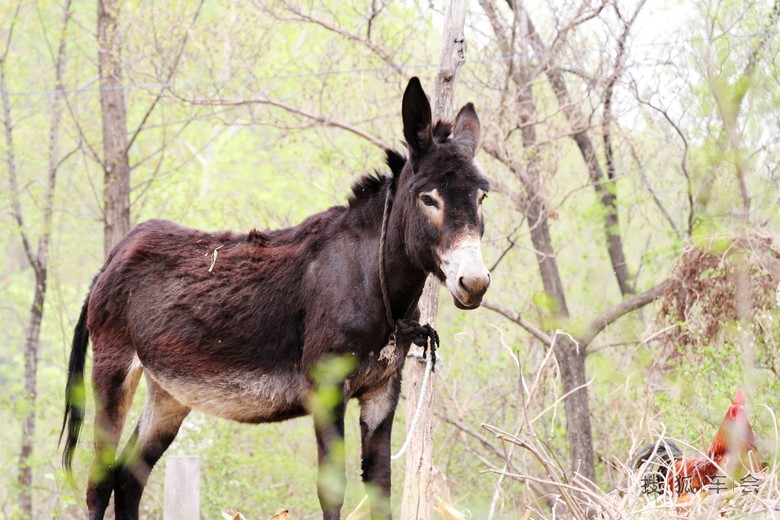background: (65, 74, 492, 512)
